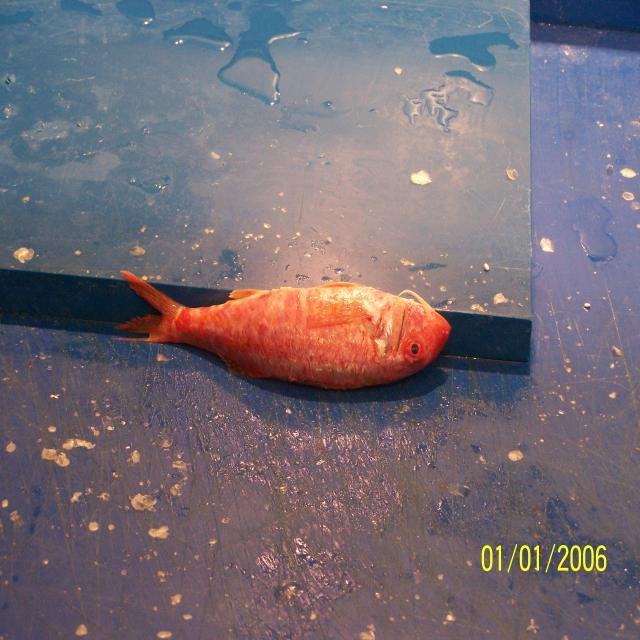Red-Mullet-kefal-: (120, 273, 452, 393)
